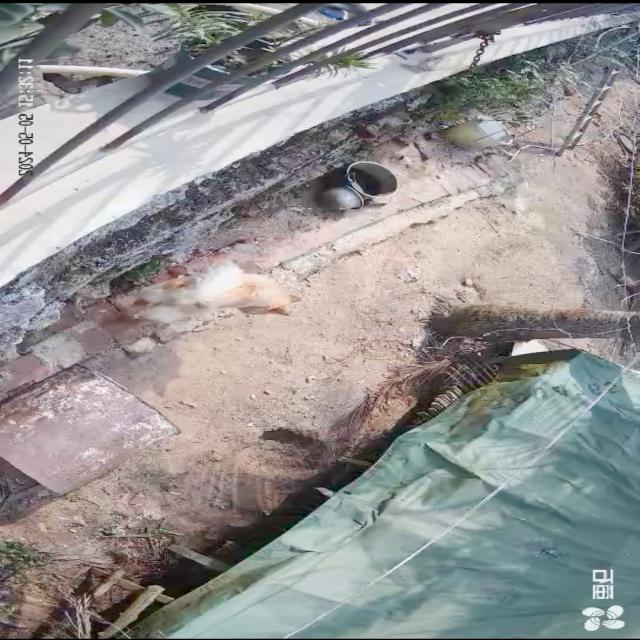dog: (134, 262, 304, 325)
